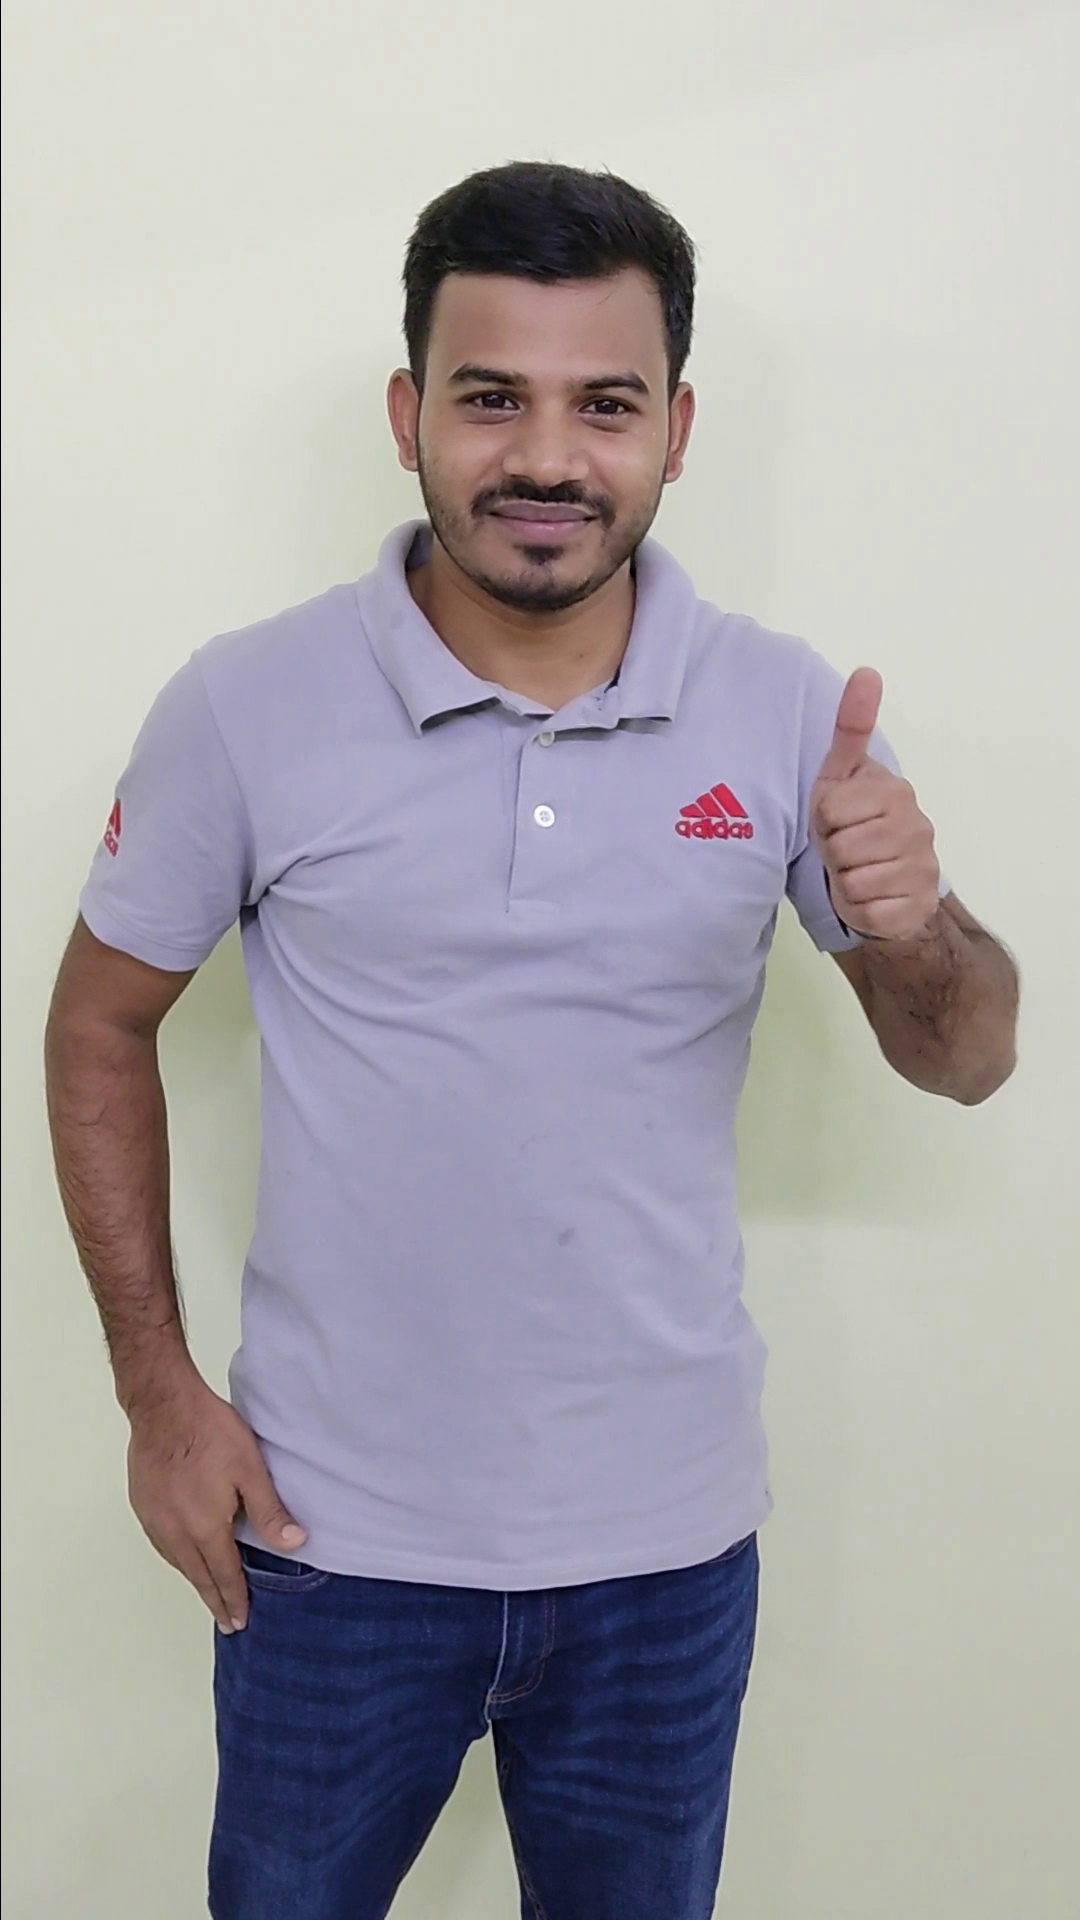Like: (764, 647, 989, 973)
None: (95, 1353, 315, 1644)
